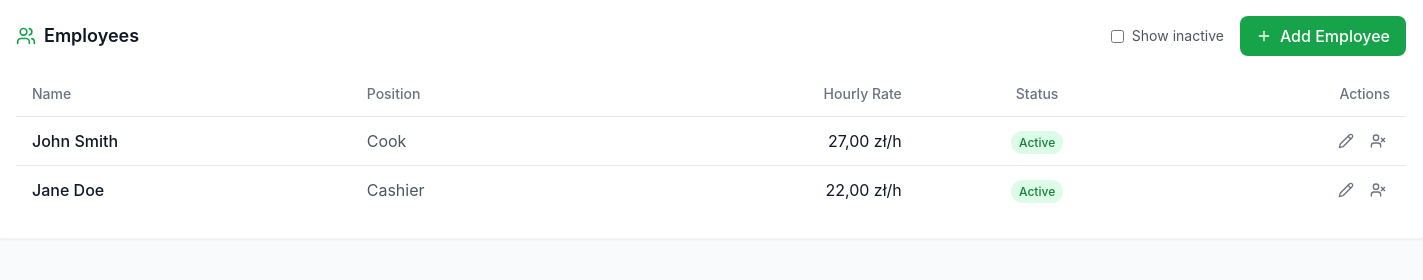
Test: EmployeesSection › Filtering › shows all employees including inactive when checkbox is checked
Check: the text "John Smith" is shown, box x1=16 y1=116 x2=351 y2=166
// Check the "Show inactive" checkbox
Click the checkbox labelled "Show inactive".
click(1117, 36)  # box x1=1111 y1=30 x2=1124 y2=42
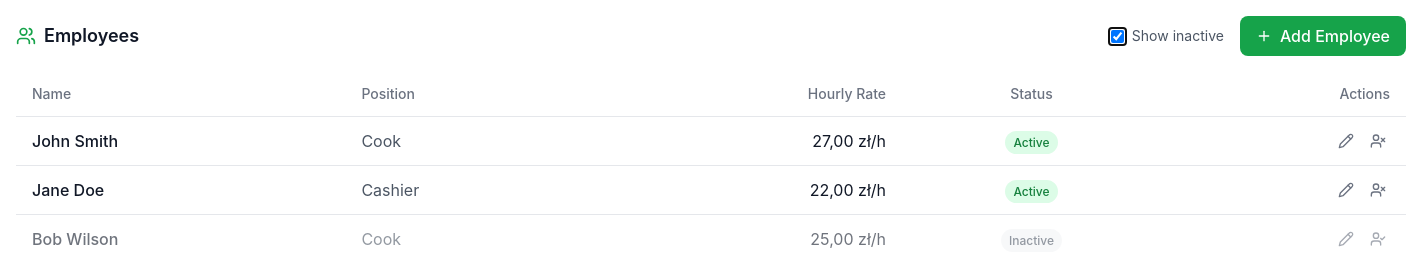
Check: the text "Bob Wilson" is shown, box x1=16 y1=214 x2=345 y2=263
